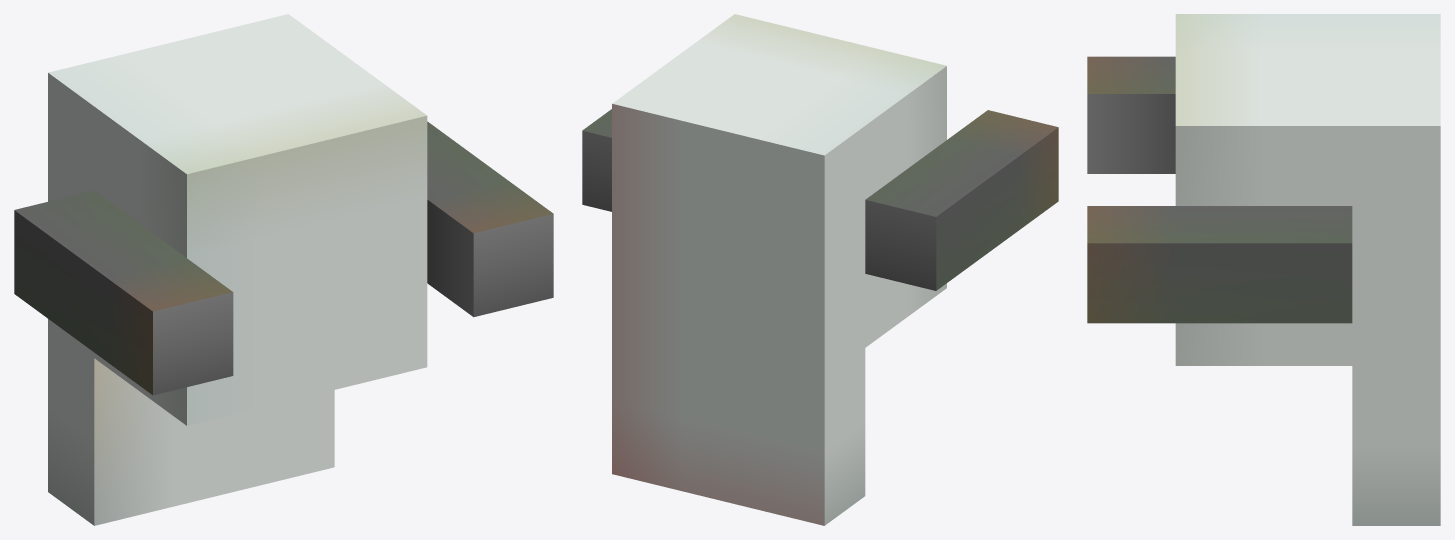
Rendered from ToiletPaperRoll_01.obj.
3 views of the same model, side by side, from view 1: azimuth 30°, elevation 25°; view 2: azimuth 150°, elevation 25°; view 3: azimuth 270°, elevation 25° (orthographic). The views are drawn at different scales.
Visible parts, largest first — view 1: ToiletPaperRoll_01; view 2: ToiletPaperRoll_01; view 3: ToiletPaperRoll_01.
Part boxes in pixels (x1=…): ToiletPaperRoll_01: x1=14, y1=14, x2=553, y2=525; ToiletPaperRoll_01: x1=582, y1=14, x2=1058, y2=525; ToiletPaperRoll_01: x1=1087, y1=14, x2=1440, y2=525.
Bounding box in the file's own units: 0.25 × 0.25 × 0.2.
